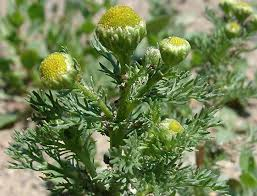pineple: (92, 21, 227, 105), (114, 108, 237, 194)
